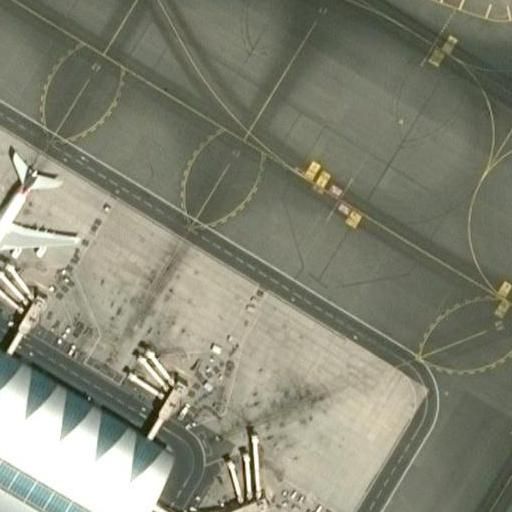Aircraft: (0, 139, 85, 286)
